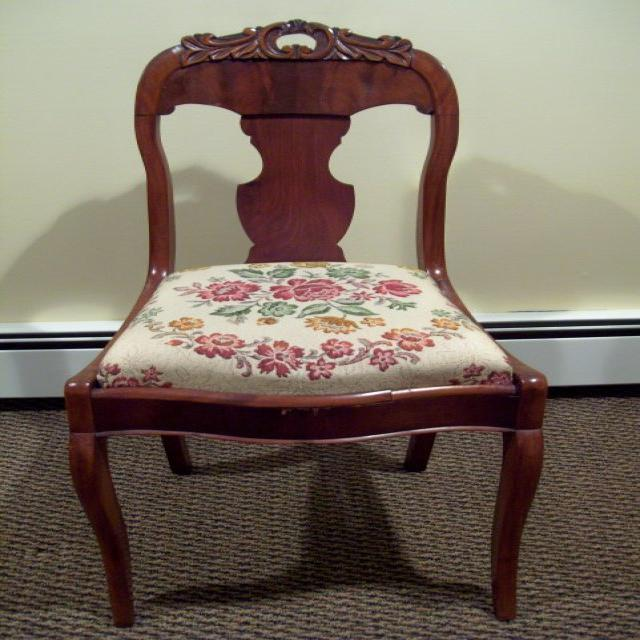chair: (63, 18, 548, 628)
